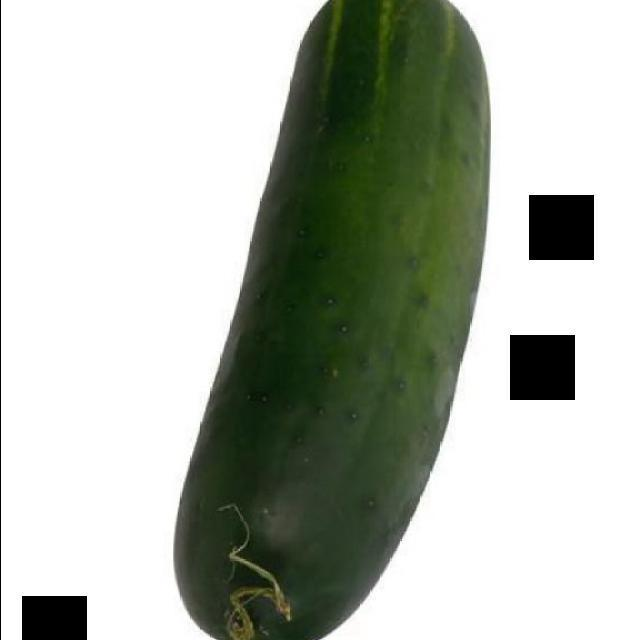cucumber: (169, 0, 499, 640)
